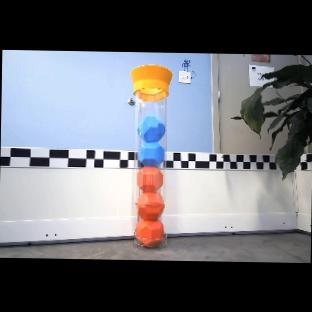Loader: (128, 64, 172, 248)
V5_BLUE: (135, 113, 165, 141), (137, 141, 163, 166)
V5_RED: (135, 217, 167, 247), (134, 190, 164, 217), (136, 167, 163, 193)
